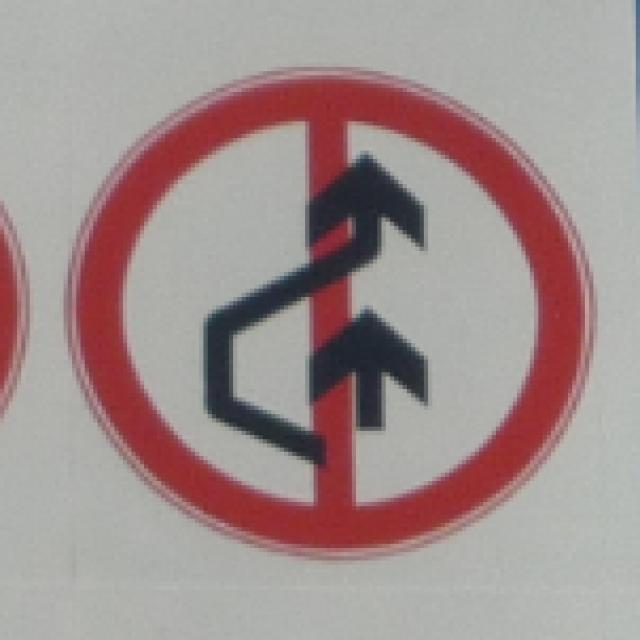Not that Direction: (64, 52, 621, 567)
